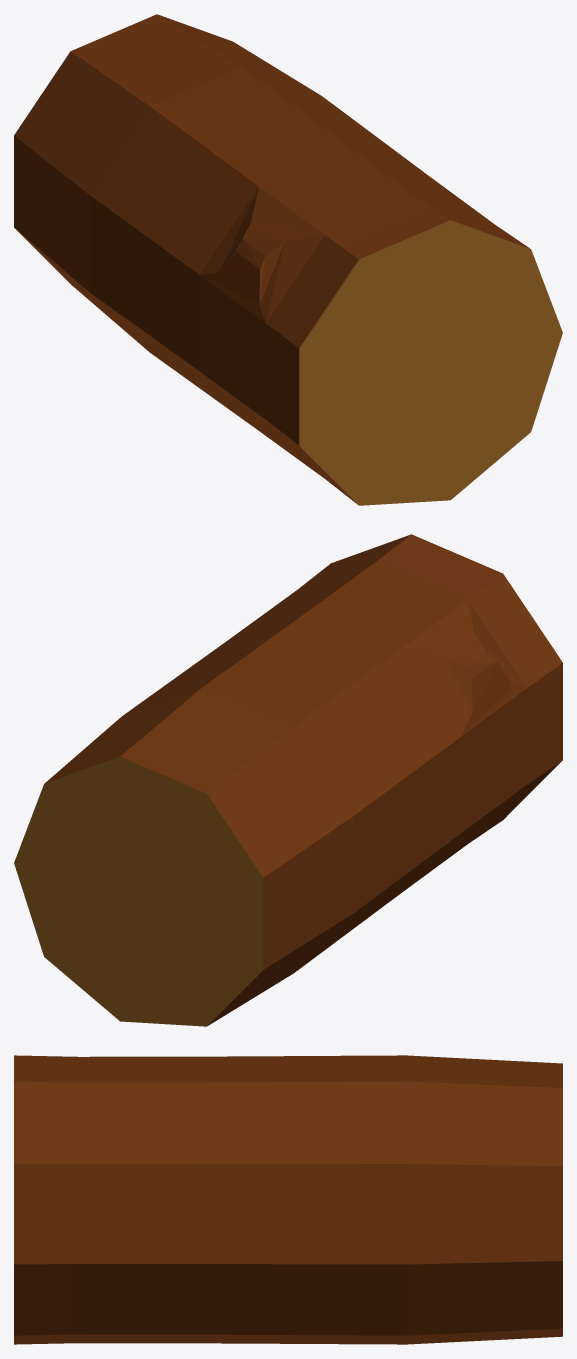
Rendered from buche_01_vf.FBX.
3 views of the same model, one above another, from view 1: azimuth 30°, elevation 25°; view 2: azimuth 150°, elevation 25°; view 3: azimuth 270°, elevation 25° (orthographic). The views are drawn at different scales.
Parts seen in each view (by area): view 1: Cylinder001; view 2: Cylinder001; view 3: Cylinder001.
Boxes of the visible parts, x1,y1,x2,y2 form: Cylinder001: (14, 14, 562, 505); Cylinder001: (14, 534, 562, 1026); Cylinder001: (14, 1055, 562, 1344).
Size of the model in its own units: 8.19 by 8.32 by 15.74.
Materials: 1 (1 with a texture image).
